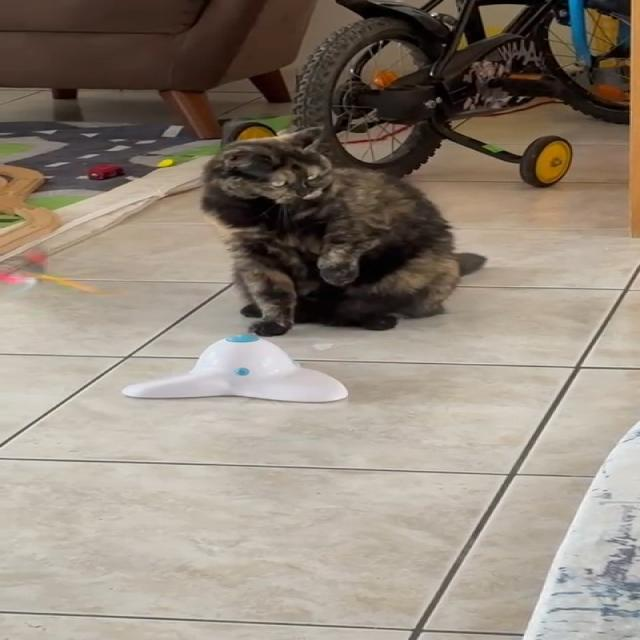authorized: (199, 125, 485, 337)
